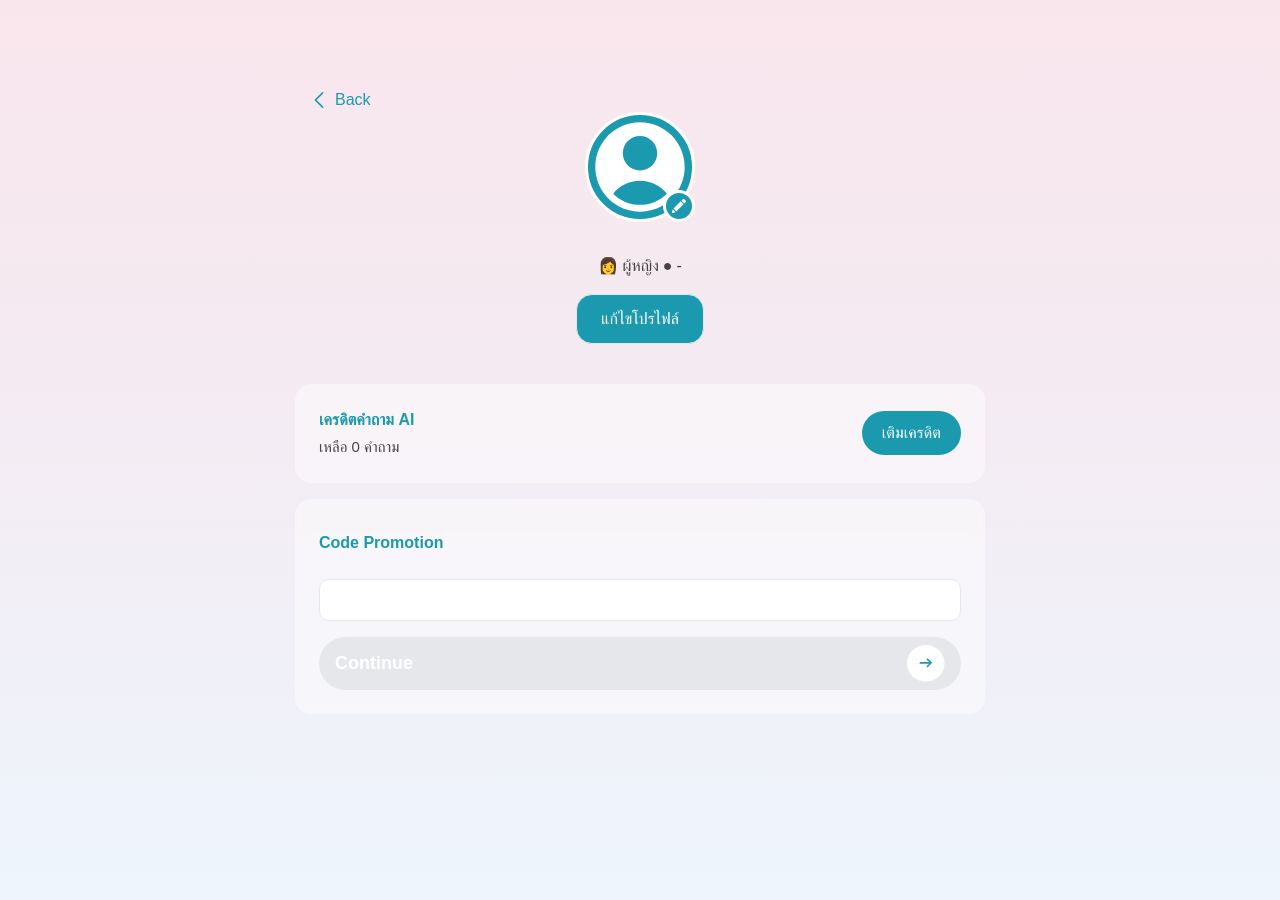
Test: #376 ④ CTA เติมเครดิตในโปรไฟล์ › กดแล้วบอกว่าปิดการขาย และบอกว่าเครดิตเดิมยังใช้ได้
Click the button with test id "profile-topup" at (911, 433), box 862,411 -> 961,455
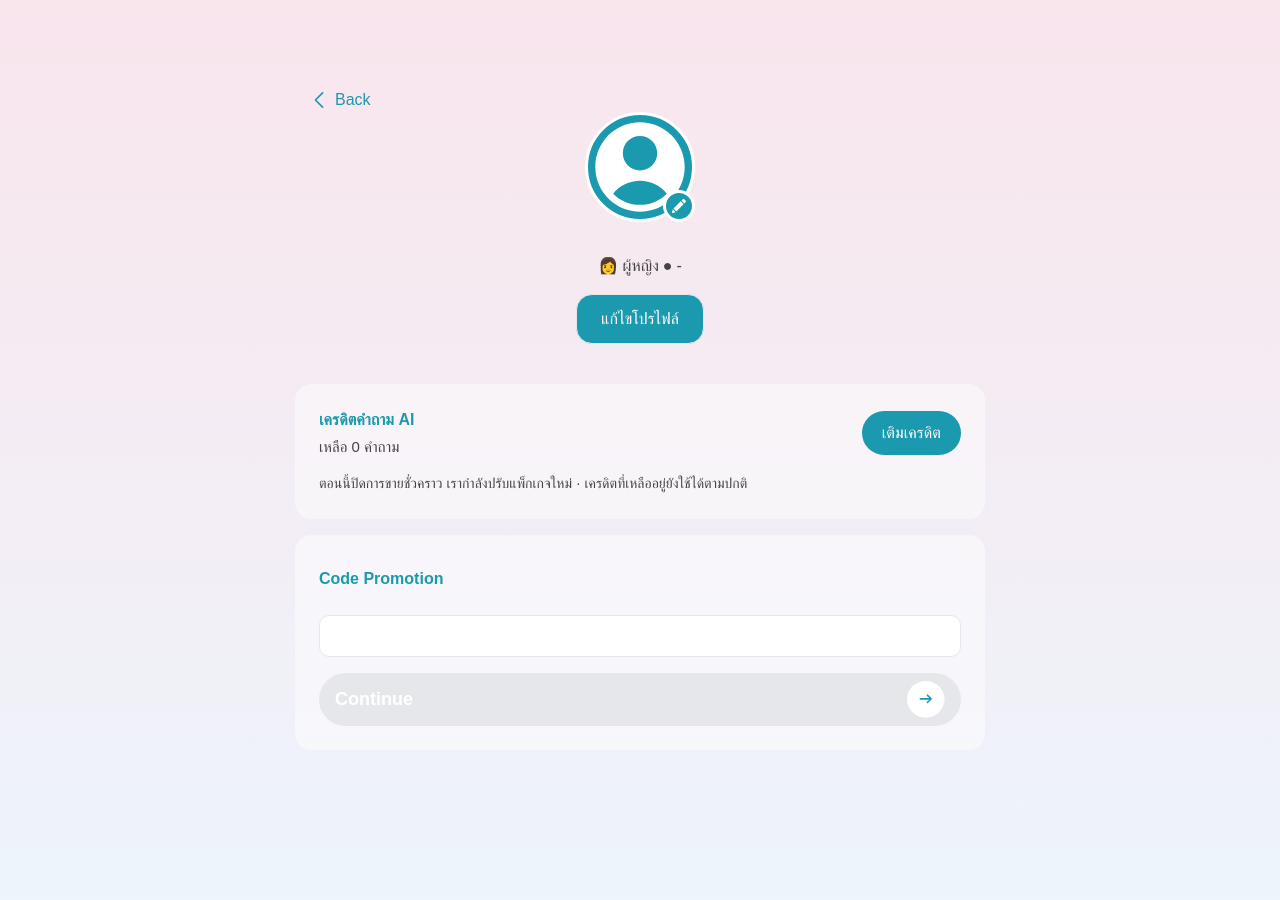
Expected: the message with test id "profile-topup-notice" shows "ปิดการขายชั่วคราว", 319,474 -> 747,490
Expected: the message with test id "profile-topup-notice" shows "ยังใช้ได้ตามปกติ", 319,474 -> 747,490
